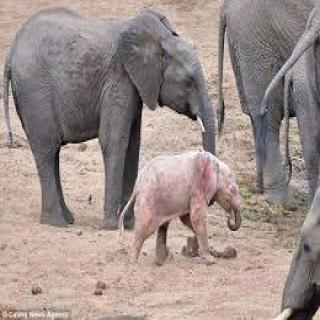Elephant: (4, 1, 235, 238), (117, 147, 247, 262)
